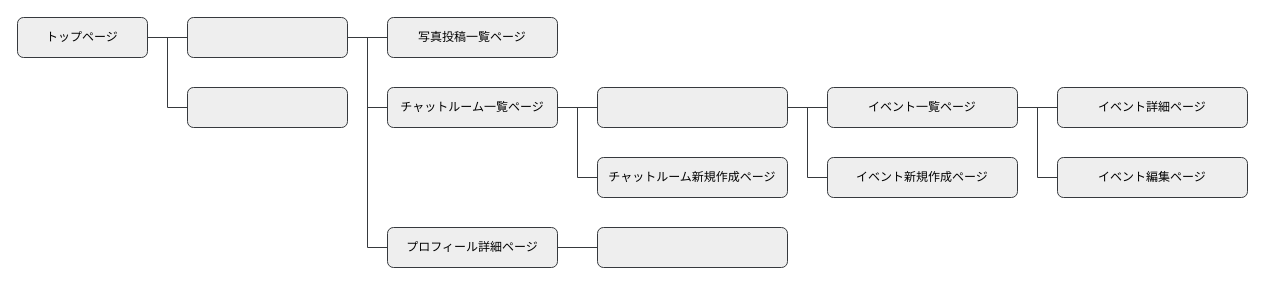
This 1265x285 diagram has some shape labels left out. The box of each missing label's shape, as (x1, y1, x2, y2) in pixels:
チャットルーム詳細ページ: (596, 86, 788, 128)
プロフィール編集ページ: (596, 226, 788, 268)
ユーザーログインページ: (186, 16, 348, 58)
ユーザー新規登録ページ: (186, 86, 348, 128)
